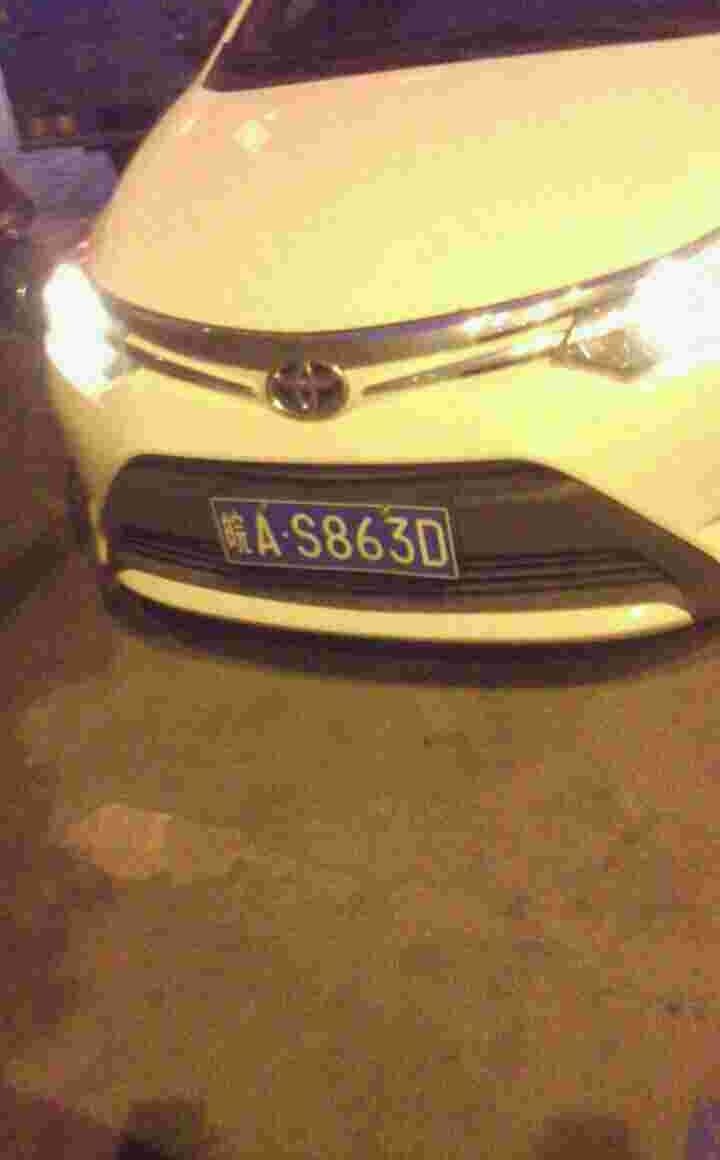license_plate: (214, 501, 461, 579)
